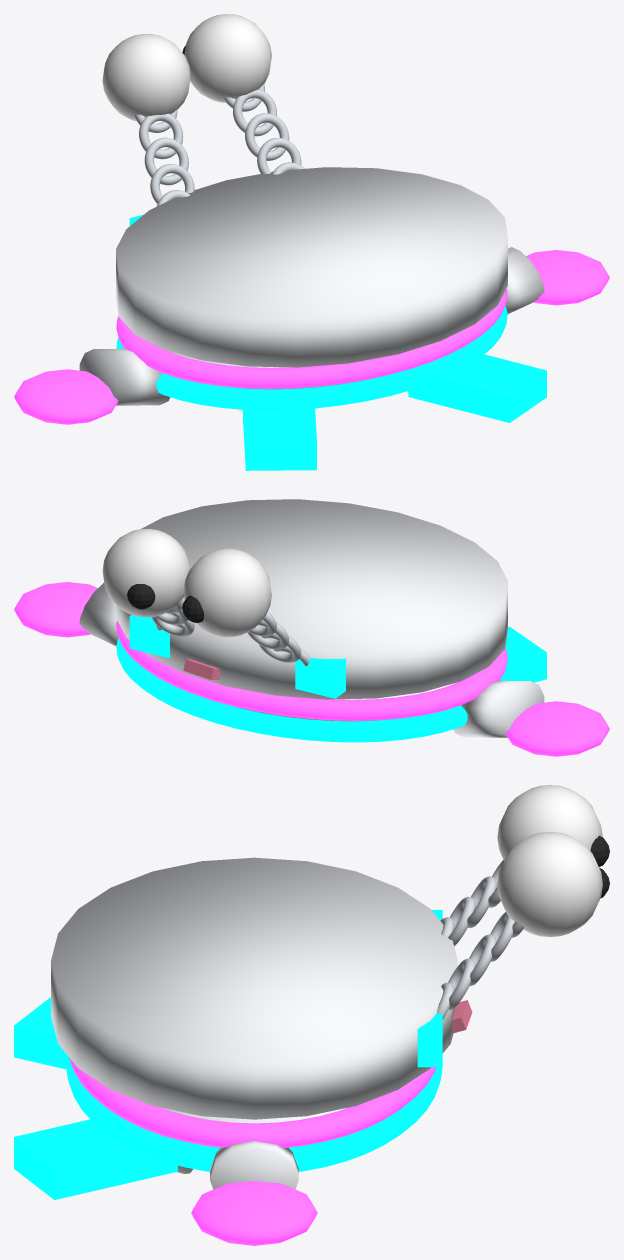
The model's file is player-squashed.glb.
The picture shows the model from 3 angles, top to bottom: view 1: azimuth 30°, elevation 25°; view 2: azimuth 150°, elevation 25°; view 3: azimuth 270°, elevation 25°; orthographic projection. The views are drawn at different scales.
Visible parts, largest first — view 1: Squash_Head, Squash_Fold_0.26, Squash_Fold_0.18, GooglyEye_L, GooglyEye_R, Squash_Boot_R, Squash_Boot_L, Squash_Glove_L, Squash_Glove_R, Squash_Arm_L, Squash_Arm_R, SpringCoil_L_2 (+5 smaller); view 2: Squash_Head, Squash_Fold_0.26, Squash_Fold_0.18, GooglyEye_L, GooglyEye_R, Squash_Glove_L, Squash_Glove_R, Squash_Arm_L, Squash_Visor, Squash_Boot_L, Squash_Arm_R, GooglyPupil_R (+7 smaller); view 3: Squash_Head, Squash_Fold_0.26, GooglyEye_R, Squash_Boot_R, Squash_Fold_0.18, Squash_Glove_R, GooglyEye_L, Squash_Arm_R, Squash_Boot_L, Squash_Visor, SpringCoil_L_2, SpringCoil_R_1 (+4 smaller).
Part boxes in pixels (bbox=[...]): Squash_Head: bbox=[116, 167, 507, 367]; Squash_Fold_0.26: bbox=[116, 289, 507, 388]; Squash_Fold_0.18: bbox=[116, 305, 507, 410]; GooglyEye_L: bbox=[102, 34, 190, 121]; GooglyEye_R: bbox=[184, 14, 271, 102]; Squash_Boot_R: bbox=[408, 354, 546, 422]; Squash_Boot_L: bbox=[243, 408, 316, 470]; Squash_Glove_L: bbox=[14, 369, 118, 424]; Squash_Glove_R: bbox=[526, 250, 609, 305]; Squash_Arm_L: bbox=[79, 348, 170, 405]; Squash_Arm_R: bbox=[505, 247, 544, 314]; SpringCoil_L_2: bbox=[144, 137, 188, 185]; Squash_Head: bbox=[116, 499, 507, 699]; Squash_Fold_0.26: bbox=[116, 621, 507, 720]; Squash_Fold_0.18: bbox=[116, 637, 507, 742]; GooglyEye_L: bbox=[183, 548, 271, 637]; GooglyEye_R: bbox=[102, 528, 189, 617]; Squash_Glove_L: bbox=[505, 701, 609, 756]; Squash_Glove_R: bbox=[14, 582, 97, 637]; Squash_Arm_L: bbox=[453, 680, 544, 737]; Squash_Visor: bbox=[129, 615, 345, 698]; Squash_Boot_L: bbox=[505, 626, 546, 682]; Squash_Arm_R: bbox=[79, 583, 118, 646]; GooglyPupil_R: bbox=[127, 584, 155, 609]; Squash_Head: bbox=[51, 857, 457, 1119]; Squash_Fold_0.26: bbox=[69, 1057, 436, 1147]; GooglyEye_R: bbox=[497, 832, 602, 936]; Squash_Boot_R: bbox=[14, 1119, 177, 1199]; Squash_Fold_0.18: bbox=[66, 1055, 442, 1171]; Squash_Glove_R: bbox=[191, 1181, 317, 1245]; GooglyEye_L: bbox=[497, 785, 602, 860]; Squash_Arm_R: bbox=[210, 1141, 298, 1189]; Squash_Boot_L: bbox=[14, 997, 67, 1069]; Squash_Visor: bbox=[417, 910, 442, 1067]; SpringCoil_L_2: bbox=[467, 876, 496, 928]; SpringCoil_R_1: bbox=[448, 958, 475, 1010].
Bounding box in the file's own units: 2.26 × 0.9862 × 1.69.
